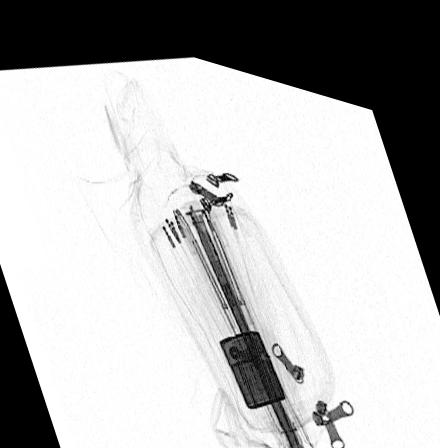Lighter: (218, 315, 287, 395)
